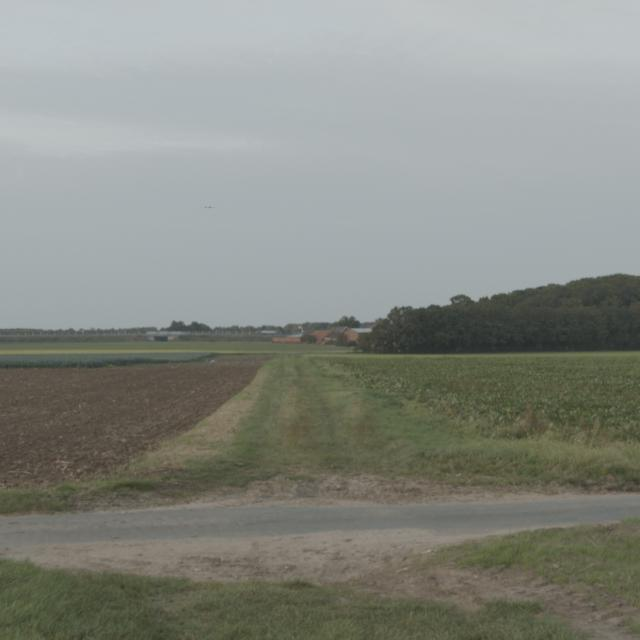Airaplan: (201, 206, 215, 209)
